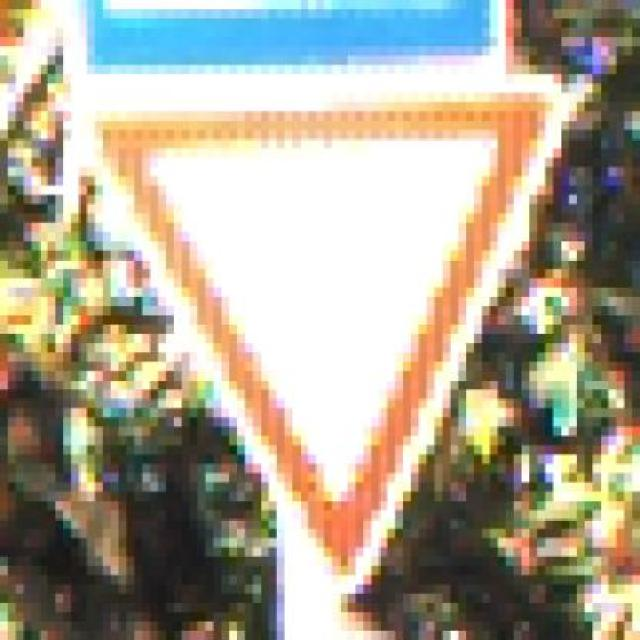Give Way: (32, 74, 593, 621)
